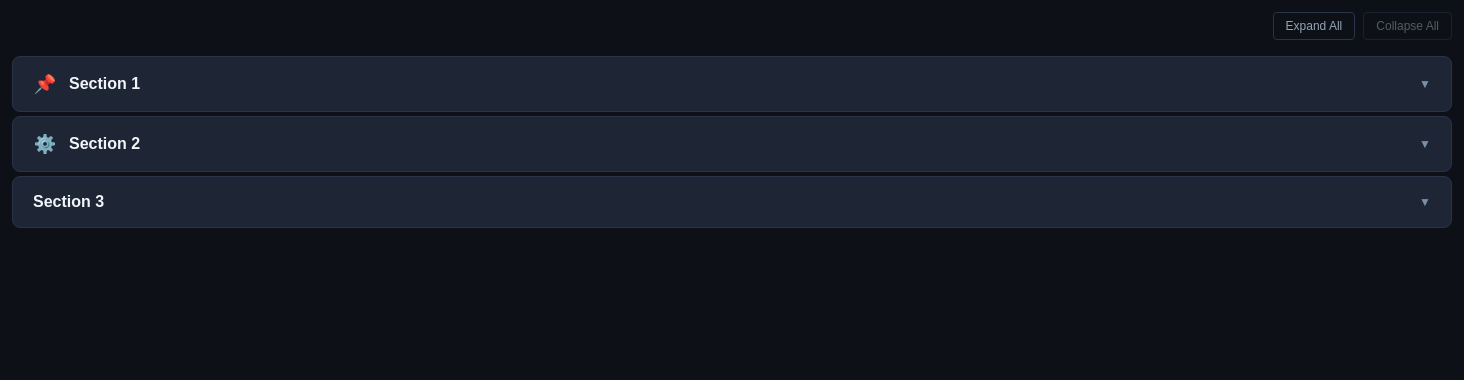
Test: SettingsAccordion › Expand All / Collapse All › expands all sections when Expand All is clicked
Click the button "Expand All" at (1314, 26), box [1273, 12, 1355, 40]
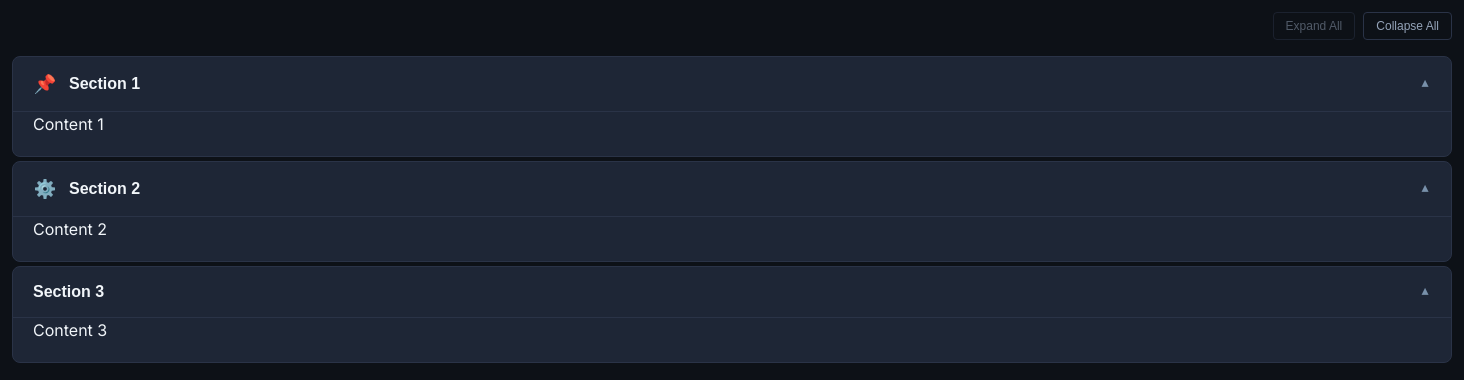
Expected: the text "Content 1" is shown, [33, 114, 104, 134]
Expected: the text "Content 2" is shown, [33, 219, 107, 239]
Expected: the text "Content 3" is shown, [33, 320, 107, 340]
